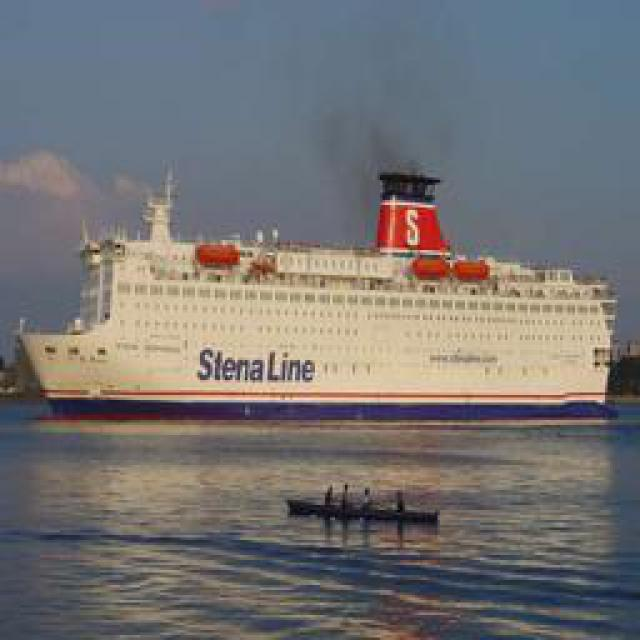Ship: (17, 167, 625, 415)
